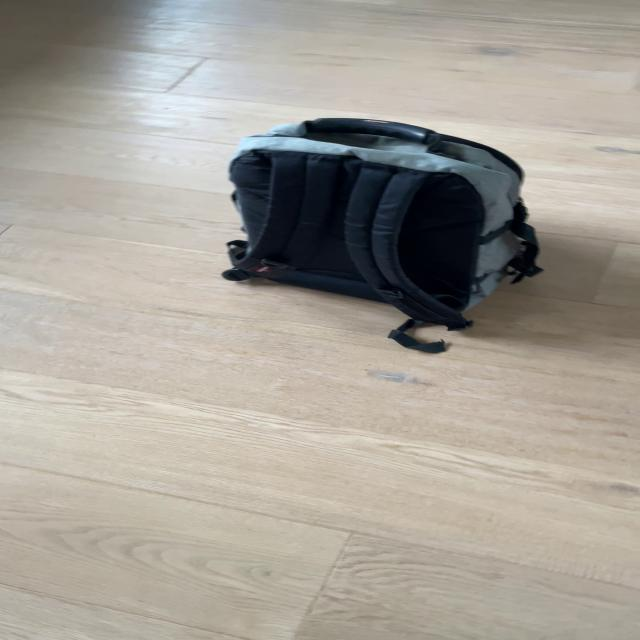backpack: (212, 104, 550, 333)
